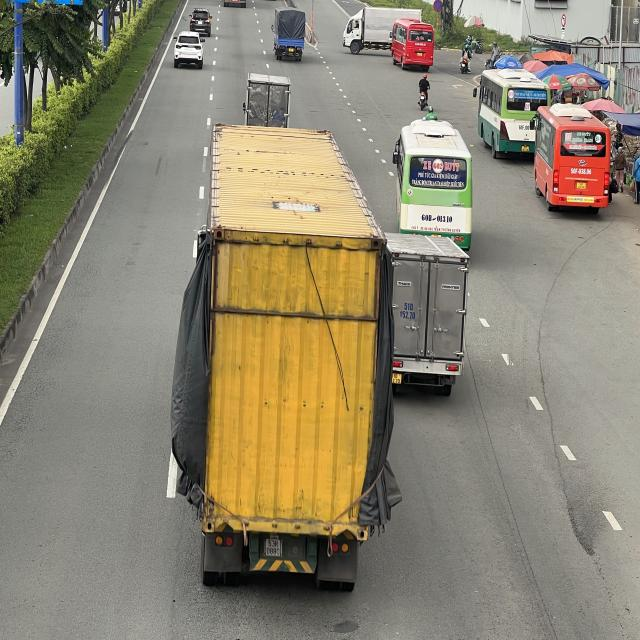car: (173, 32, 205, 68), (189, 9, 212, 35)
coach: (392, 117, 473, 245), (530, 101, 612, 213), (476, 69, 549, 162), (390, 20, 437, 72)
container: (168, 122, 388, 587)
truck: (389, 236, 471, 396), (344, 6, 424, 58), (242, 71, 292, 125), (271, 11, 306, 62)
